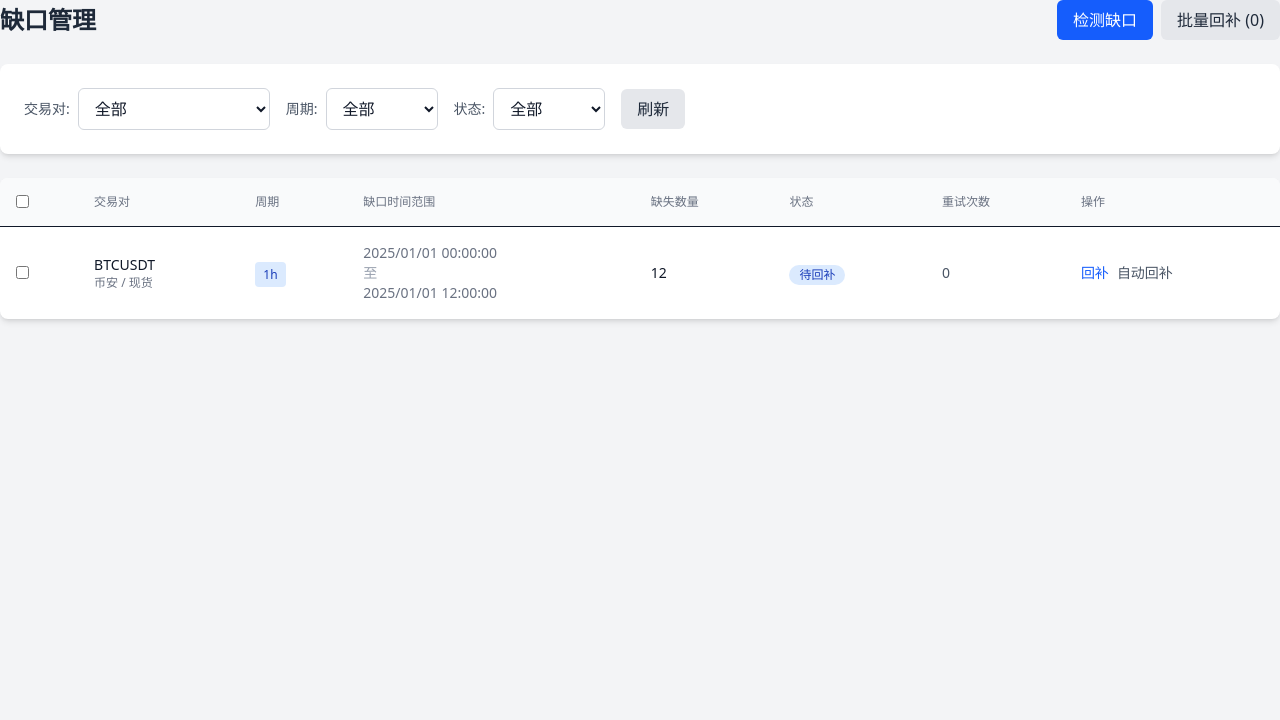
Test case: GapList - 自动回补开关配置入口 › 自动回补配置入口 › 点击自动回补按钮应打开配置弹窗
The width and height of the screenshot is (1280, 720).
What coordinates should you click on to do the following:
click the button "自动回补"
I would click on:
 (1145, 273)
Its box is [1117, 263, 1173, 283].
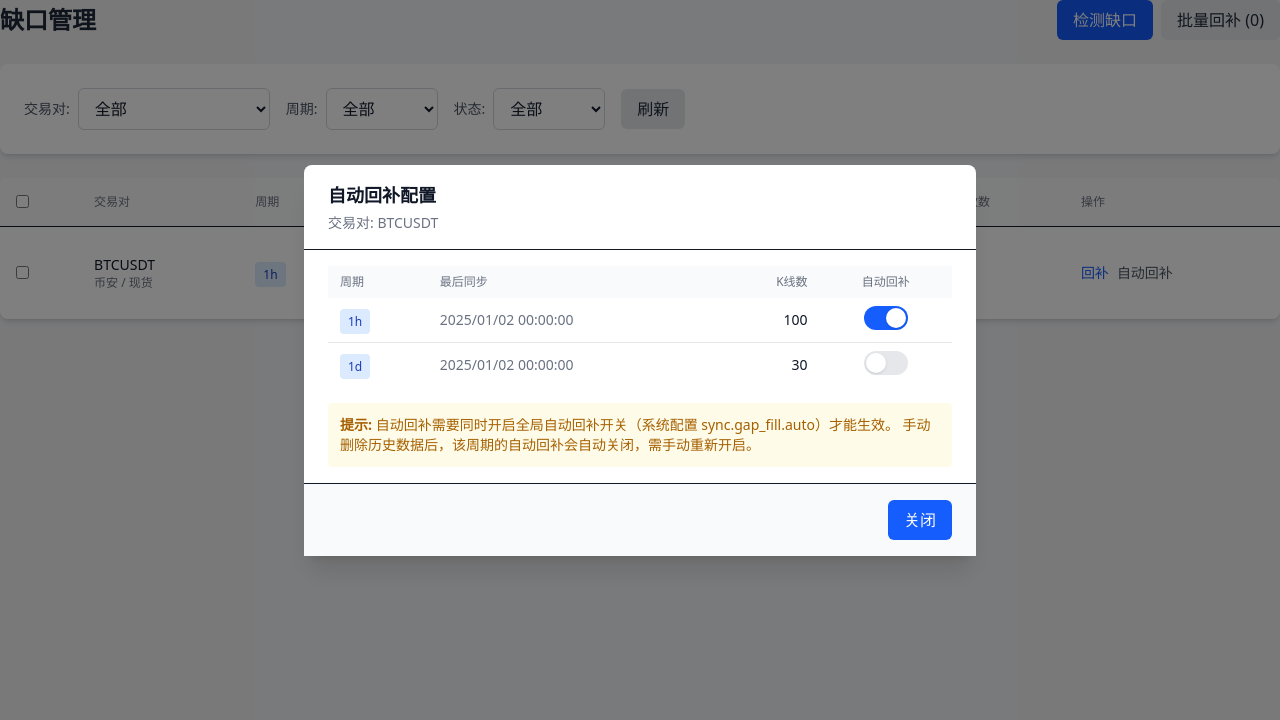
Expected: the text "BTCUSDT" is shown, [94, 255, 155, 274]
Now the text "自动回补配置" is shown, box [328, 182, 436, 206]
